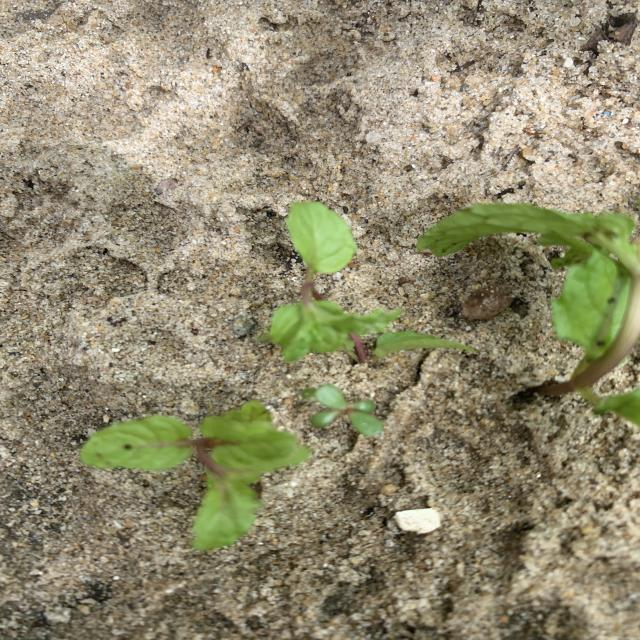crop: (422, 202, 637, 424), (259, 202, 474, 364), (80, 400, 308, 551)
weed: (302, 385, 382, 435)
